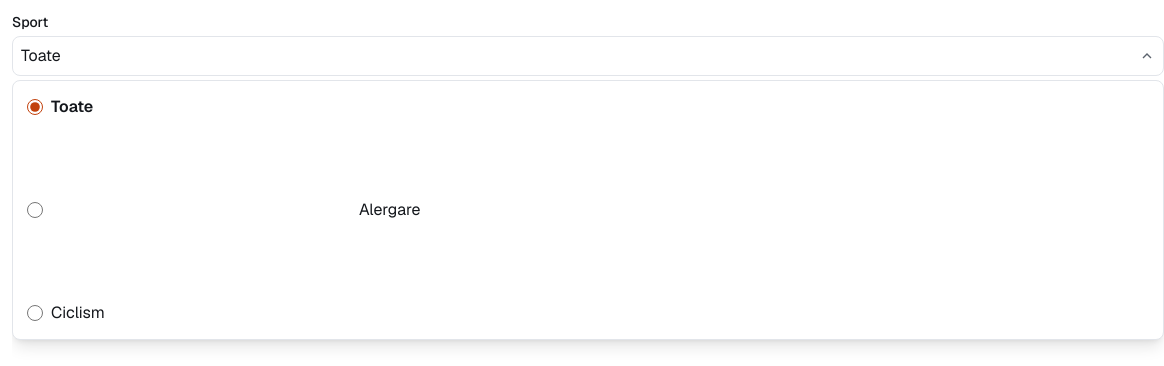
SelectDropdown › updates, submits and closes when an option is picked
Click the radio button labelled "Ciclism" at (35, 313), box [27,305,43,321]
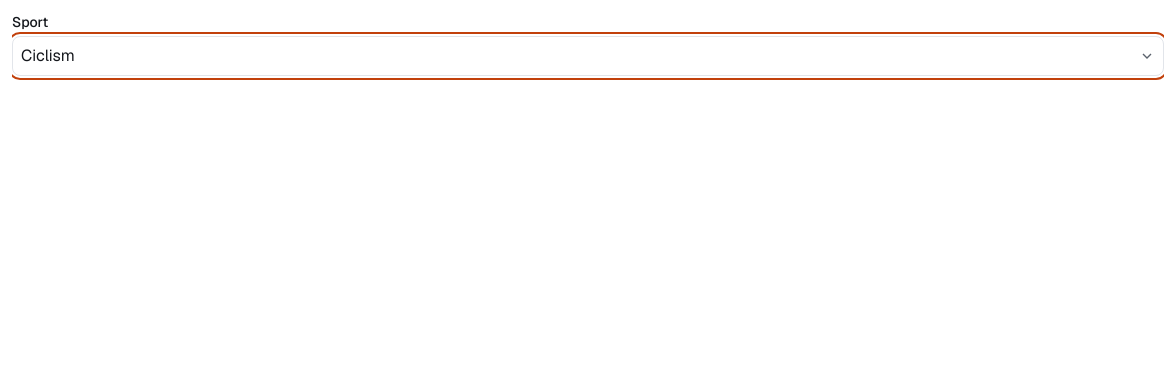
Expected: the heading "Ciclism" is shown, [12,36,1163,76]
